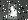person: (9, 5, 18, 20)
